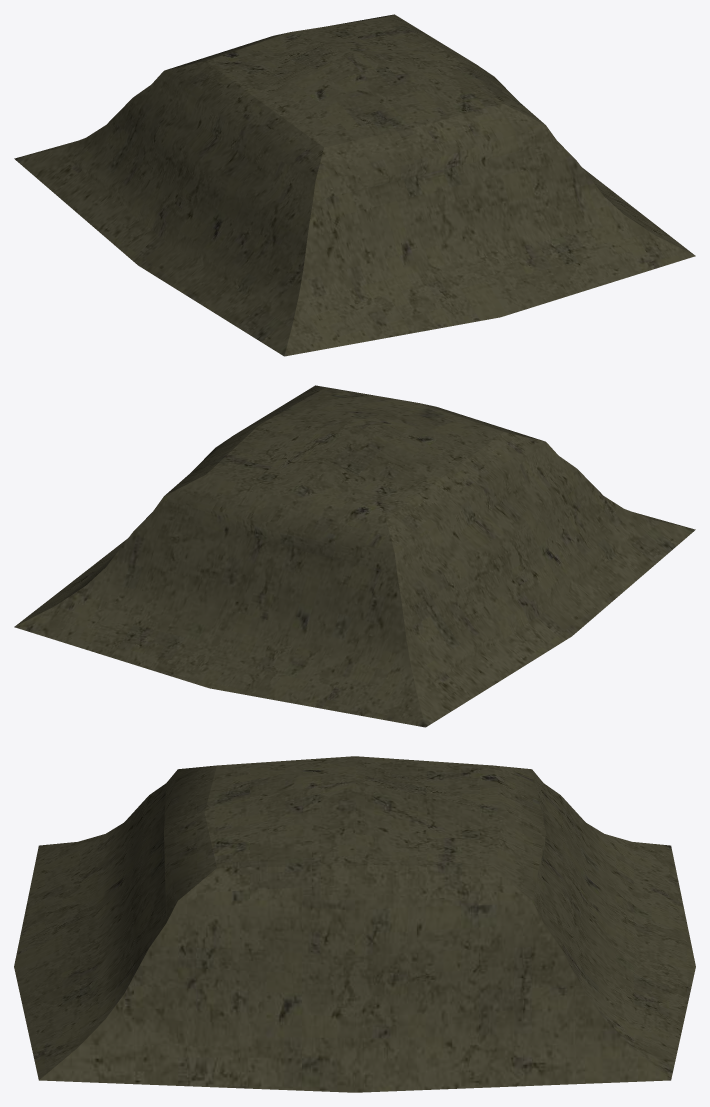
File: Terra 1.fbx
The picture shows the model from 3 angles, top to bottom: view 1: azimuth 30°, elevation 25°; view 2: azimuth 150°, elevation 25°; view 3: azimuth 270°, elevation 25°; orthographic projection. The views are drawn at different scales.
Parts seen in each view (by area): view 1: pasted__polySurface53; view 2: pasted__polySurface53; view 3: pasted__polySurface53.
Boxes of the visible parts, box(x1,y1,x2,y2) form: pasted__polySurface53: box(14, 14, 695, 356); pasted__polySurface53: box(14, 385, 695, 727); pasted__polySurface53: box(14, 756, 695, 1092).
Size of the model in its own units: 13.66 by 4.87 by 15.89.
1 material, 1 textured.
